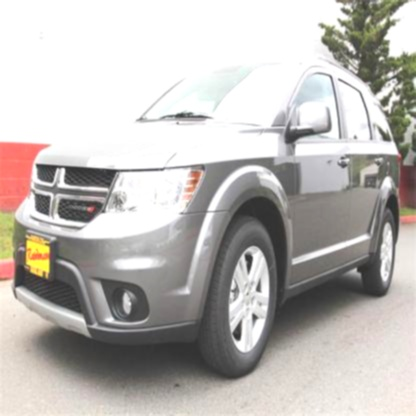Vehicle: (14, 54, 402, 382)
